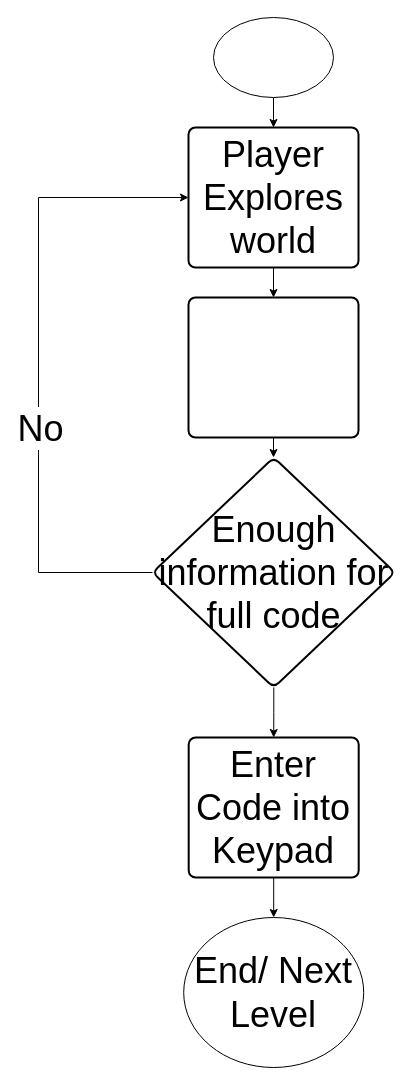
The diagram is 413 pixels wide and 1085 high, and some of its shapes have lost their labels. Here are the shapes that lost their labels. From the top down, the centre of each, then its label:
(x=273, y=57): Start
(x=273, y=367): Player Locates codes
